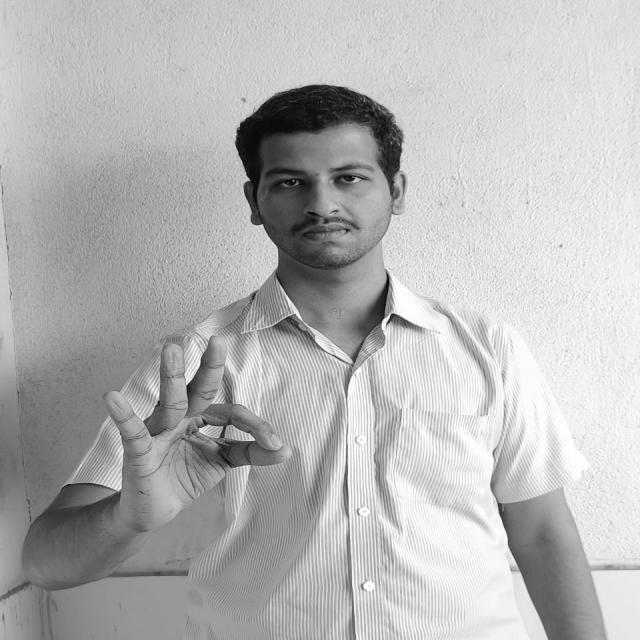Superb: (105, 339, 286, 515)
